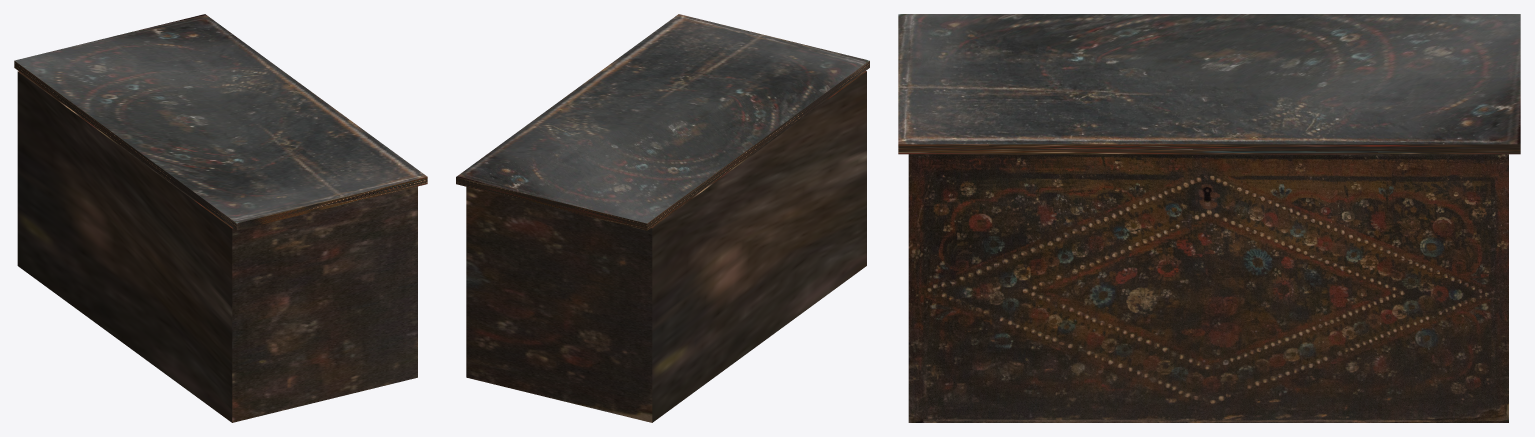
The model's file is petit_coffre.glb.
3 views of the same model, side by side, from view 1: azimuth 30°, elevation 25°; view 2: azimuth 150°, elevation 25°; view 3: azimuth 270°, elevation 25° (orthographic). The views are drawn at different scales.
Visible parts, largest first — view 1: Cube; view 2: Cube; view 3: Cube.
Boxes of the visible parts, bbox=[...] form: Cube: bbox=[14, 14, 427, 422]; Cube: bbox=[456, 14, 869, 422]; Cube: bbox=[898, 14, 1520, 422].
Bounding box in the file's own units: 4.13 × 4.16 × 8.3.
Materials: 2 (2 with a texture image).
